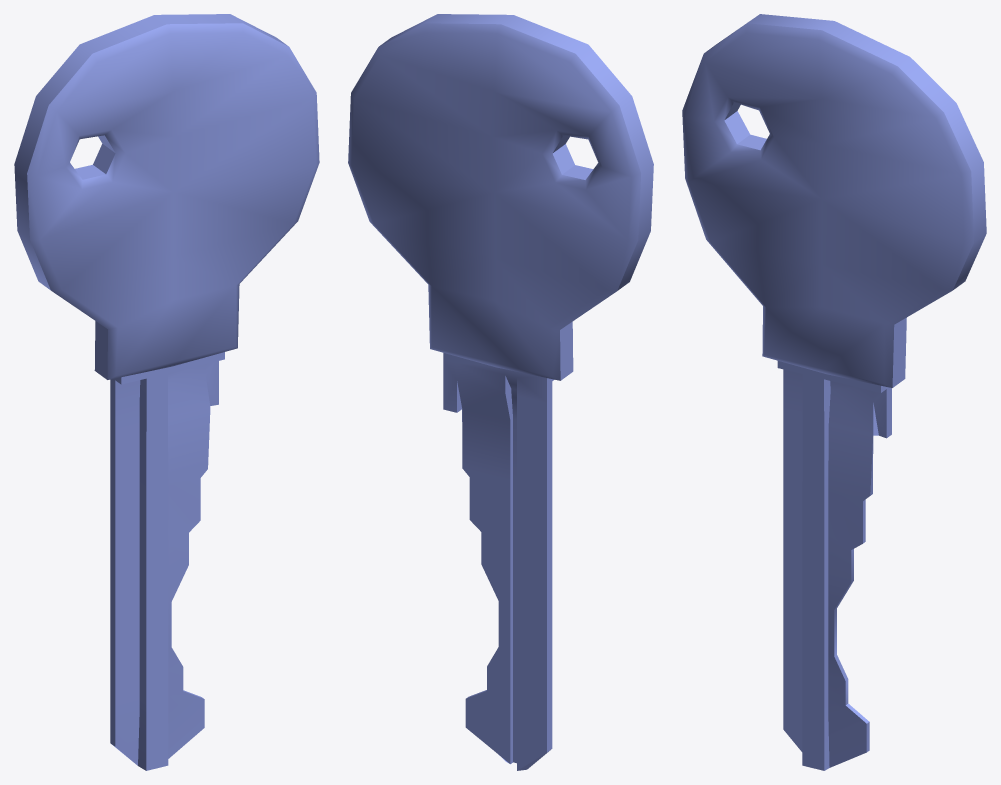
The model's file is Keys_41.FBX.
3 views of the same model, side by side, from view 1: azimuth 30°, elevation 25°; view 2: azimuth 150°, elevation 25°; view 3: azimuth 330°, elevation 25° (orthographic).
Visible parts, largest first — view 1: Keys_41; view 2: Keys_41; view 3: Keys_41.
Part boxes in pixels (x1,y1,x2,y2): Keys_41: [14, 14, 319, 770]; Keys_41: [348, 14, 653, 770]; Keys_41: [682, 14, 986, 770].
Size of the model in its own units: 1.02 by 2.48 by 0.1158.
